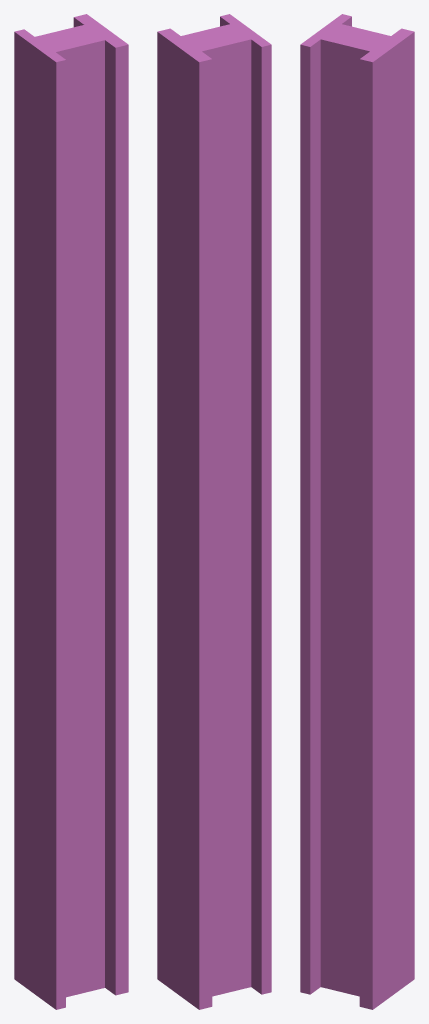
File: IronBeam.fbx
3 views of the same model, side by side, from view 1: azimuth 30°, elevation 25°; view 2: azimuth 210°, elevation 25°; view 3: azimuth 330°, elevation 25° (orthographic).
Parts seen in each view (by area): view 1: IronBeam; view 2: IronBeam; view 3: IronBeam.
Boxes of the visible parts, bbox=[...] form: IronBeam: bbox=[14, 14, 128, 1009]; IronBeam: bbox=[157, 14, 271, 1009]; IronBeam: bbox=[300, 14, 414, 1009].
Bounding box in the file's own units: 30.01 × 375 × 30.
